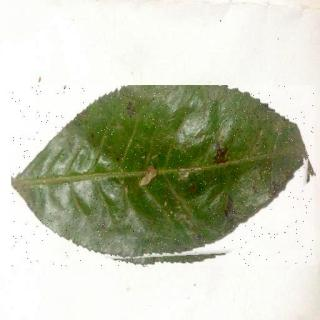Red Leaf Spot: (13, 87, 317, 268)
